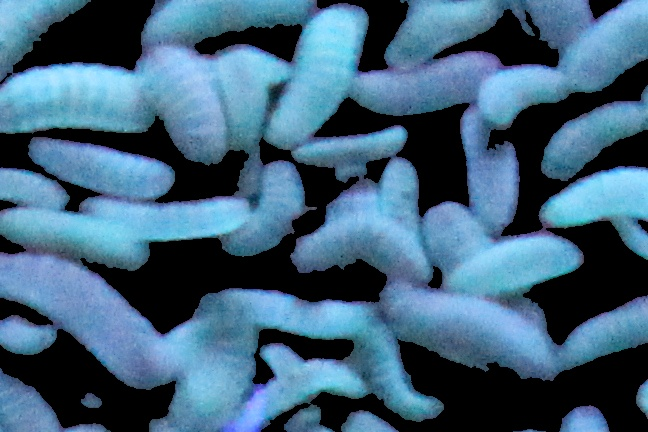larvae: (1, 251, 174, 387), (376, 282, 568, 381), (269, 6, 373, 153), (150, 297, 258, 432), (26, 129, 181, 207), (138, 43, 234, 166), (1, 58, 155, 134), (349, 316, 457, 423), (140, 1, 326, 57), (293, 204, 435, 275), (1, 210, 160, 273), (353, 53, 498, 118), (443, 231, 586, 296), (209, 286, 383, 337), (382, 1, 503, 73), (542, 99, 648, 181), (227, 160, 313, 261), (91, 191, 254, 243), (556, 1, 648, 92), (258, 336, 369, 405), (534, 165, 648, 231), (460, 101, 516, 229), (568, 291, 648, 375), (211, 47, 271, 157), (1, 1, 90, 74), (483, 65, 573, 124), (295, 125, 406, 169), (376, 157, 424, 232), (1, 312, 55, 363), (1, 170, 66, 208)
